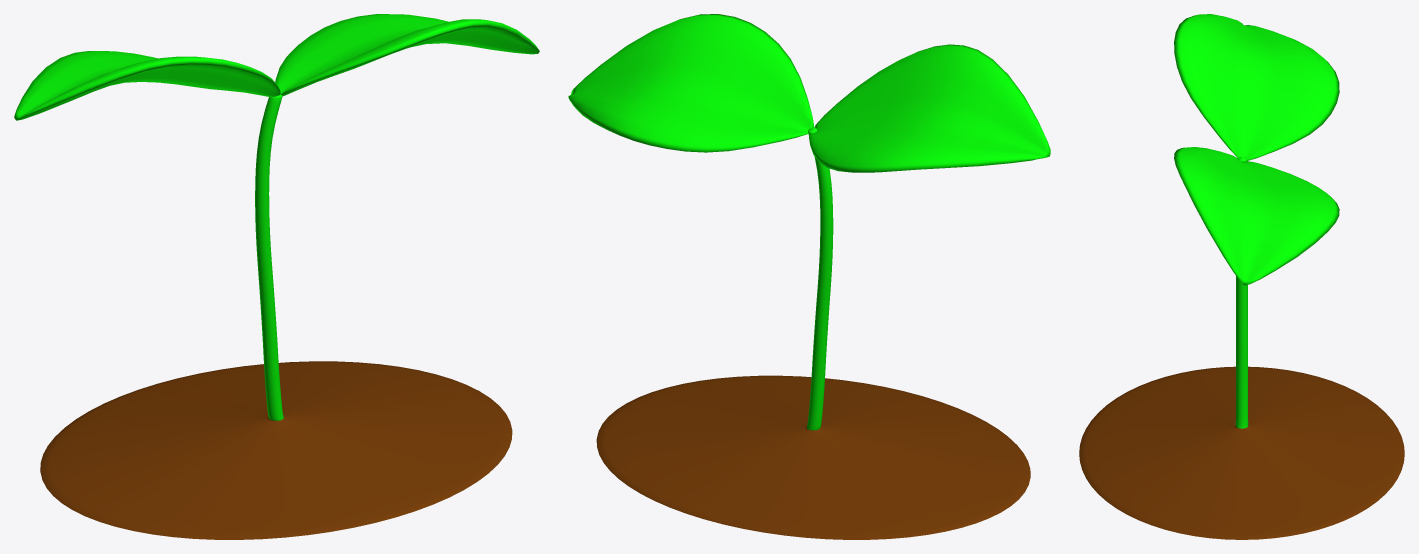
The model's file is sprout.fbx.
3 views of the same model, side by side, from view 1: azimuth 30°, elevation 25°; view 2: azimuth 150°, elevation 25°; view 3: azimuth 270°, elevation 25° (orthographic). The views are drawn at different scales.
Visible parts, largest first — view 1: 円柱, 立方体; view 2: 円柱, 立方体; view 3: 円柱, 立方体.
Boxes of the visible parts, x1=… form: 円柱: x1=40, y1=93, x2=512, y2=539; 立方体: x1=14, y1=14, x2=539, y2=120; 円柱: x1=596, y1=128, x2=1030, y2=539; 立方体: x1=568, y1=14, x2=1050, y2=172; 円柱: x1=1079, y1=157, x2=1404, y2=539; 立方体: x1=1174, y1=14, x2=1339, y2=285.
Bounding box in the file's own units: 0.3671 × 0.3038 × 0.2404.
2 materials, 2 textured.
